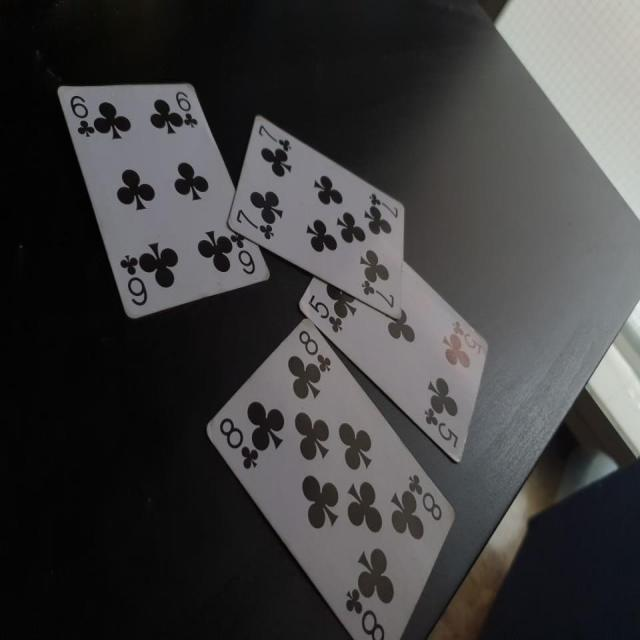5 Trefoils: (298, 257, 491, 464)
6 Trefoils: (54, 82, 270, 324)
7 Trefoils: (225, 114, 408, 317)
8 Trefoils: (206, 319, 453, 640)
